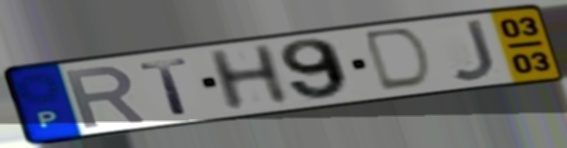9: (279, 37, 355, 104)
D: (362, 25, 435, 94)
H: (202, 41, 295, 115)
J: (448, 16, 500, 83)
R: (61, 64, 150, 131)
T: (136, 55, 193, 118)
